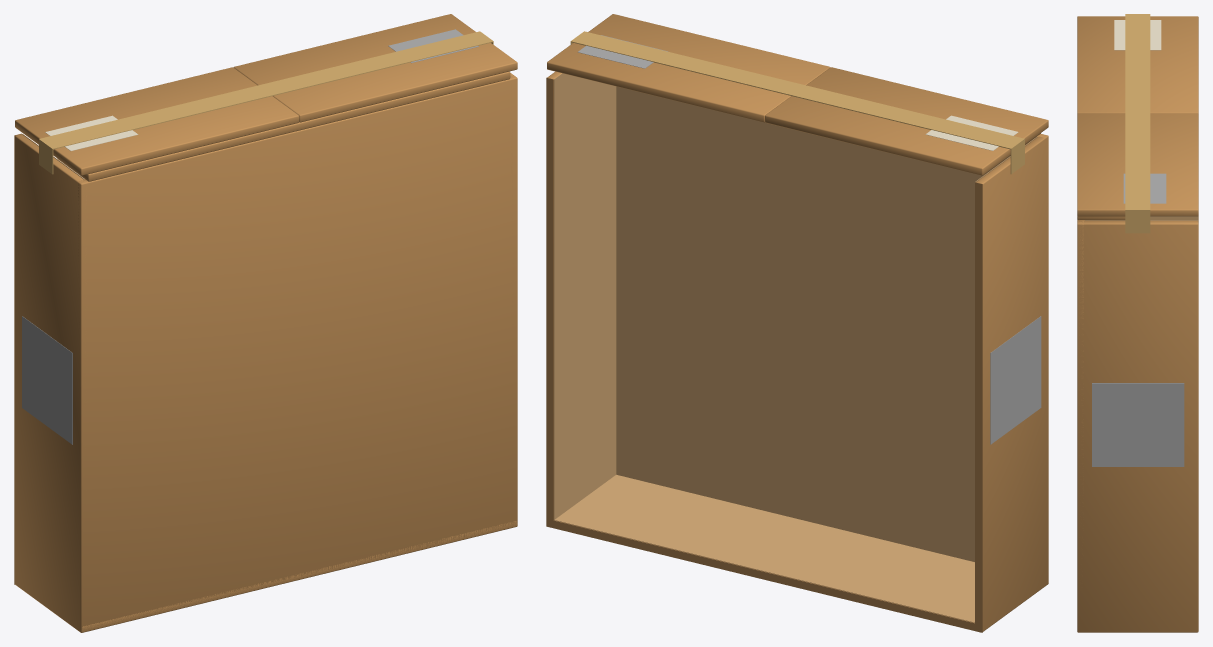
3 renders of one model, left to right at view 1: azimuth 30°, elevation 25°; view 2: azimuth 150°, elevation 25°; view 3: azimuth 270°, elevation 25°, orthographic. The views are drawn at different scales.
Visible parts, largest first — view 1: box_5x5, FlapR, FlapL, Tape, FlapB; view 2: box_5x5, FlapR, FlapL, Tape; view 3: box_5x5, FlapL, FlapR, Tape, FlapB.
Boxes of the visible parts, <box> form: box_5x5: <box>14,72,517,632</box>; FlapR: <box>15,67,299,175</box>; FlapL: <box>233,14,517,122</box>; Tape: <box>39,31,493,174</box>; FlapB: <box>57,71,510,181</box>; box_5x5: <box>546,71,1048,632</box>; FlapR: <box>765,67,1048,175</box>; FlapL: <box>547,14,830,122</box>; Tape: <box>570,31,1024,174</box>; box_5x5: <box>1077,216,1198,632</box>; FlapL: <box>1077,113,1198,216</box>; FlapR: <box>1077,16,1198,113</box>; Tape: <box>1125,14,1150,233</box>; FlapB: <box>1077,216,1125,220</box>.
Size of the model in its own units: 1.31 by 1.32 by 0.3428.
